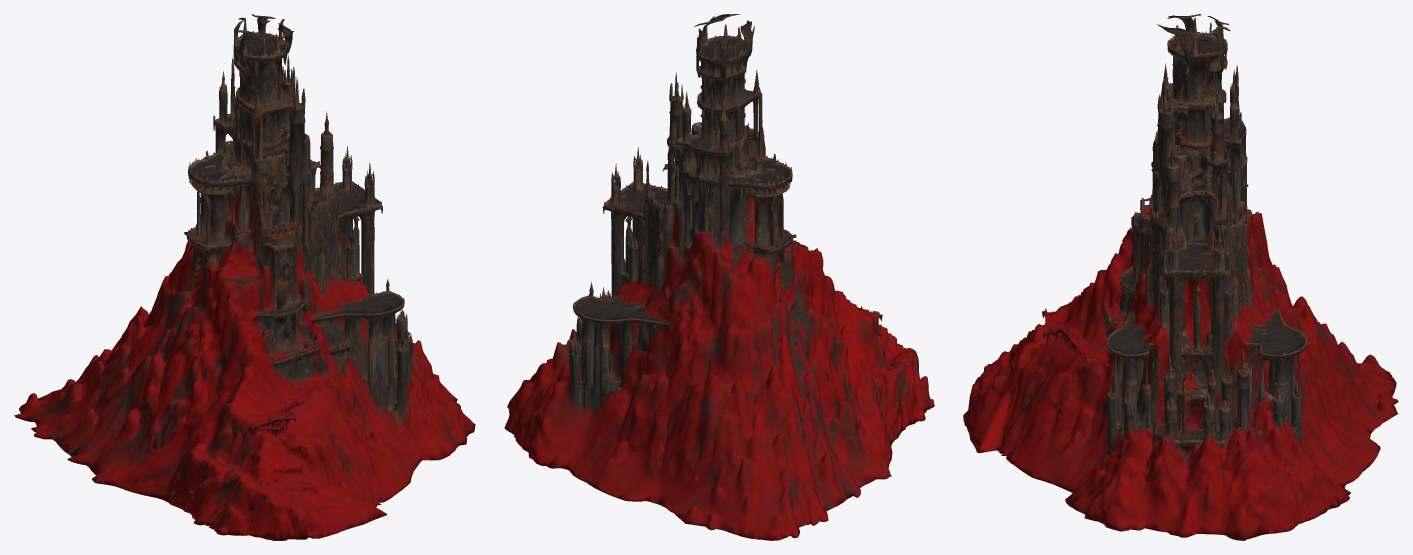
File: Crimson_Spire_Citadel.glb
The picture shows the model from 3 angles, left to right: view 1: azimuth 30°, elevation 25°; view 2: azimuth 150°, elevation 25°; view 3: azimuth 270°, elevation 25°; orthographic projection. The views are drawn at different scales.
Visible parts, largest first — view 1: Crimson_Spire_Citadel; view 2: Crimson_Spire_Citadel; view 3: Crimson_Spire_Citadel.
Part boxes in pixels (left/top/right/bottom): Crimson_Spire_Citadel: left=14, top=14, right=475, bottom=540; Crimson_Spire_Citadel: left=504, top=14, right=934, bottom=540; Crimson_Spire_Citadel: left=963, top=14, right=1398, bottom=540.
Bounding box in the file's own units: 1.74 × 1.9 × 1.78.
1 material, 1 textured.
